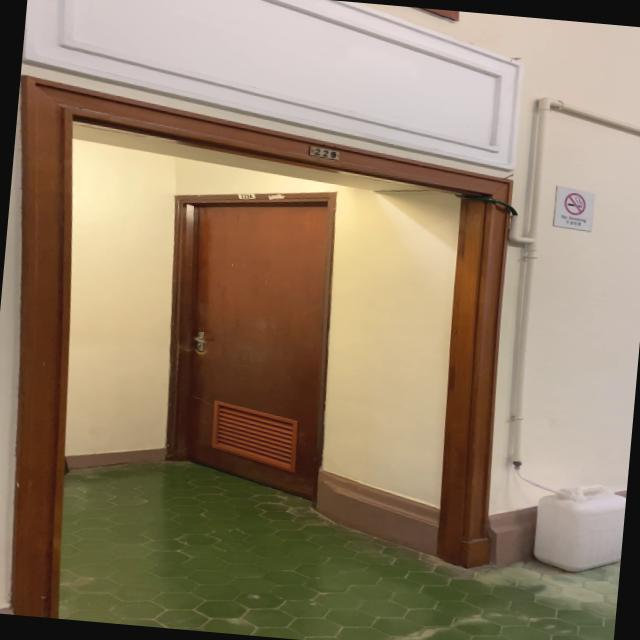room229: (304, 143, 342, 162)
